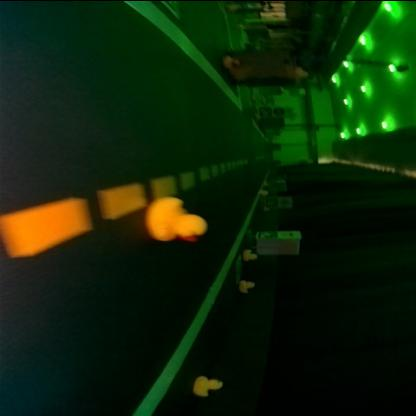Duckie: (148, 196, 206, 240), (196, 375, 223, 393), (242, 280, 256, 291), (244, 248, 258, 258), (226, 56, 240, 66), (298, 66, 308, 74)
QR code: (236, 254, 244, 280), (258, 230, 276, 236)
